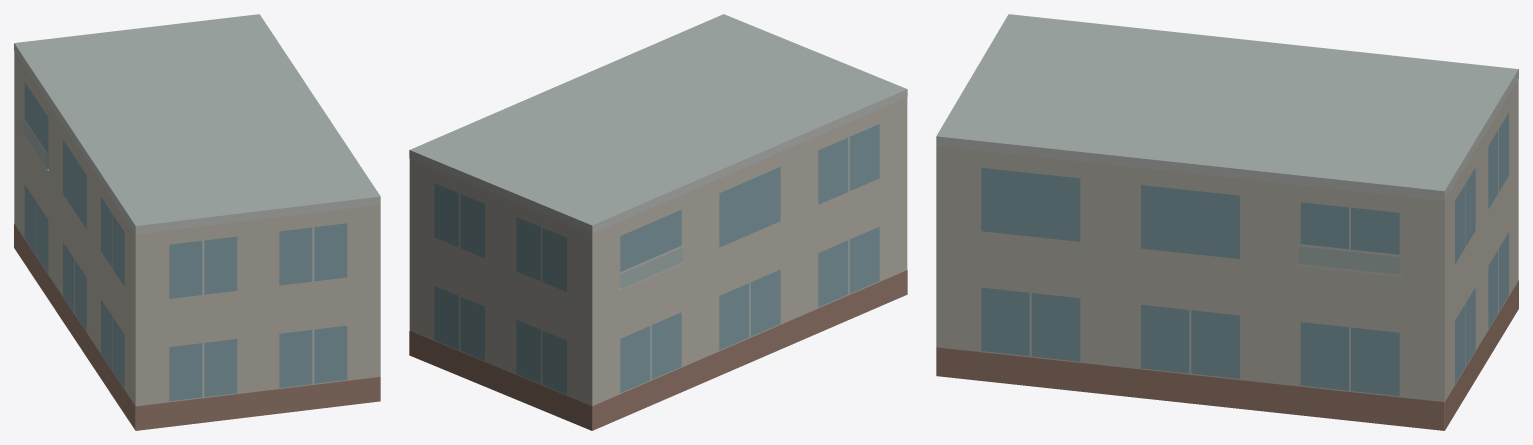
The model's file is survey-upis-32795454.glb.
3 views of the same model, side by side, from view 1: azimuth 30°, elevation 25°; view 2: azimuth 150°, elevation 25°; view 3: azimuth 270°, elevation 25° (orthographic). The views are drawn at different scales.
Parts seen in each view (by area): view 1: survey-upis-32795454.tmp; view 2: survey-upis-32795454.tmp; view 3: survey-upis-32795454.tmp.
Part boxes in pixels (box(x1,y1,x2,y2)): survey-upis-32795454.tmp: box(14, 14, 380, 430); survey-upis-32795454.tmp: box(409, 14, 907, 430); survey-upis-32795454.tmp: box(936, 14, 1518, 430).
Size of the model in its own units: 9.68 by 6.1 by 13.45.
